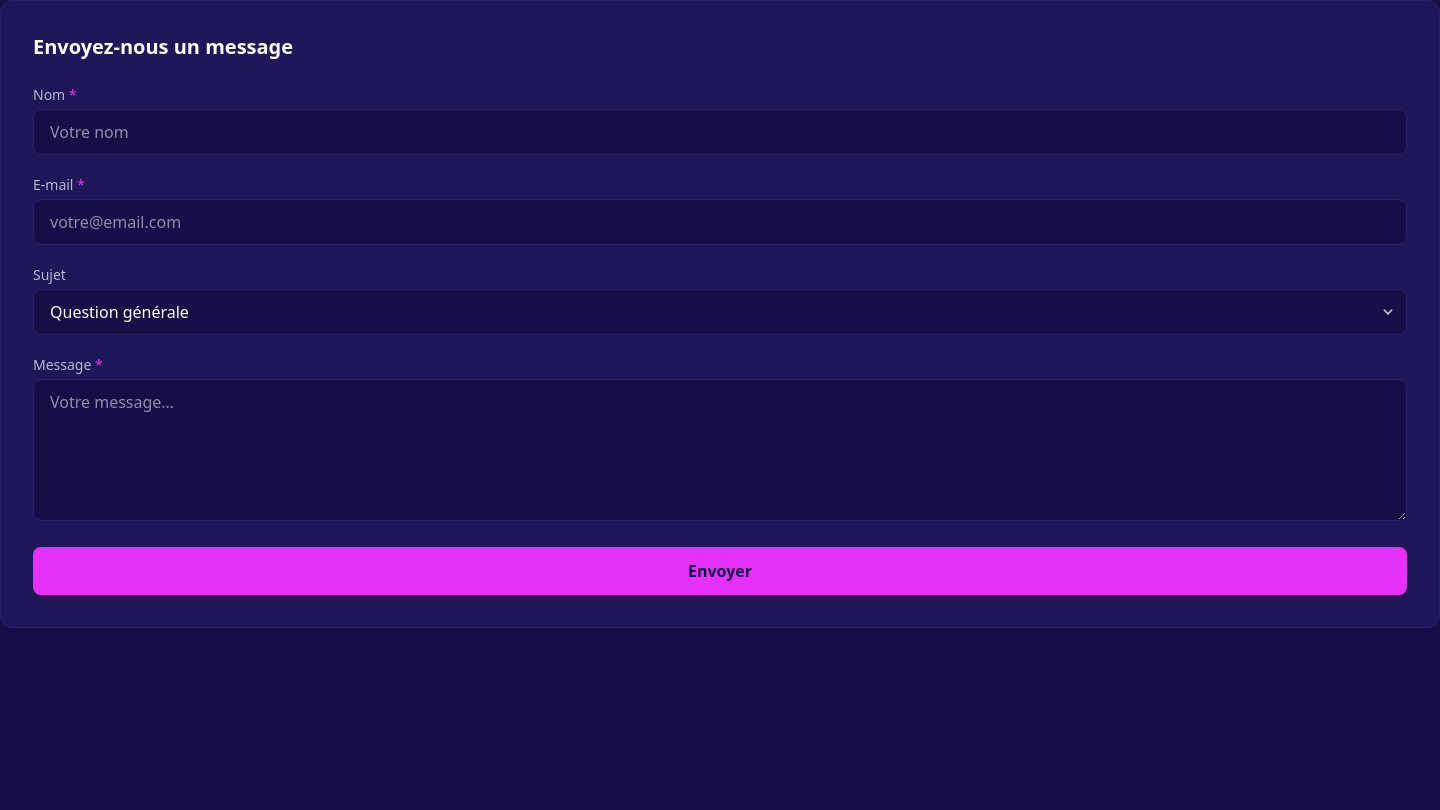
it: ContactForm › affiche une erreur si le nom est vide
The image size is (1440, 810).
In the field labelled "E-mail *": (720, 222) [33,199,1407,245], type "test@test.com"
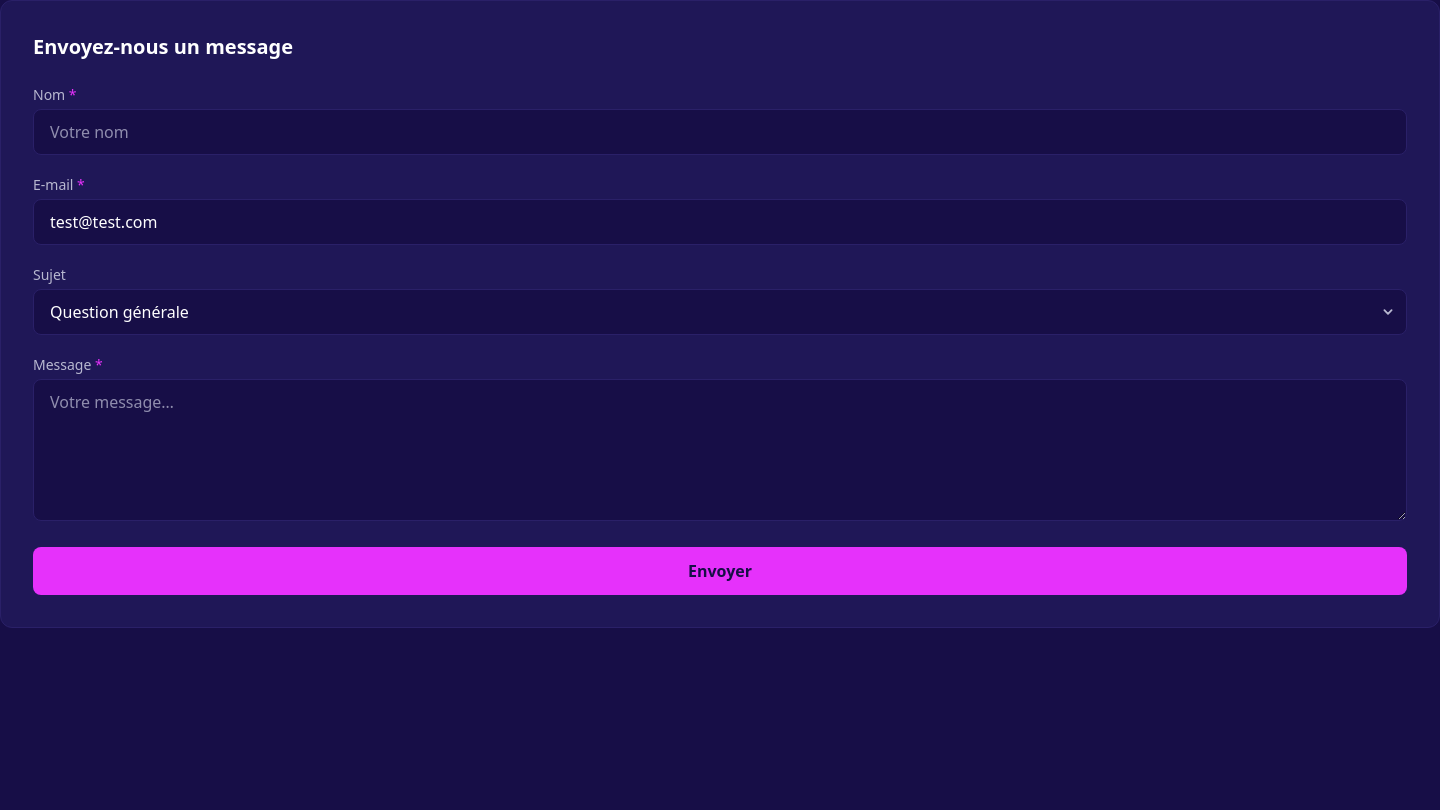
In the text box labelled "Message *": (720, 450) [33,379,1407,521], type "Un message"
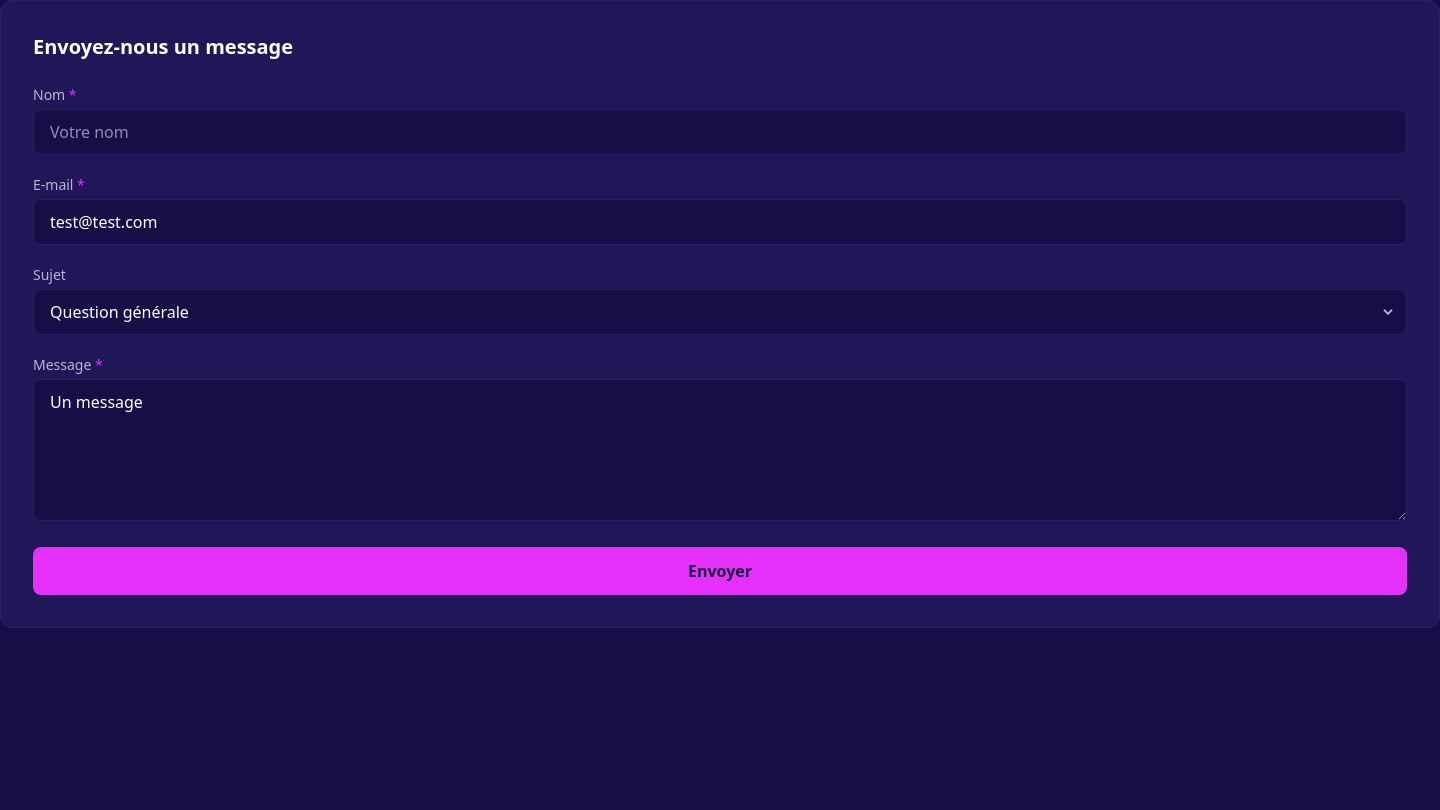
Submit the form
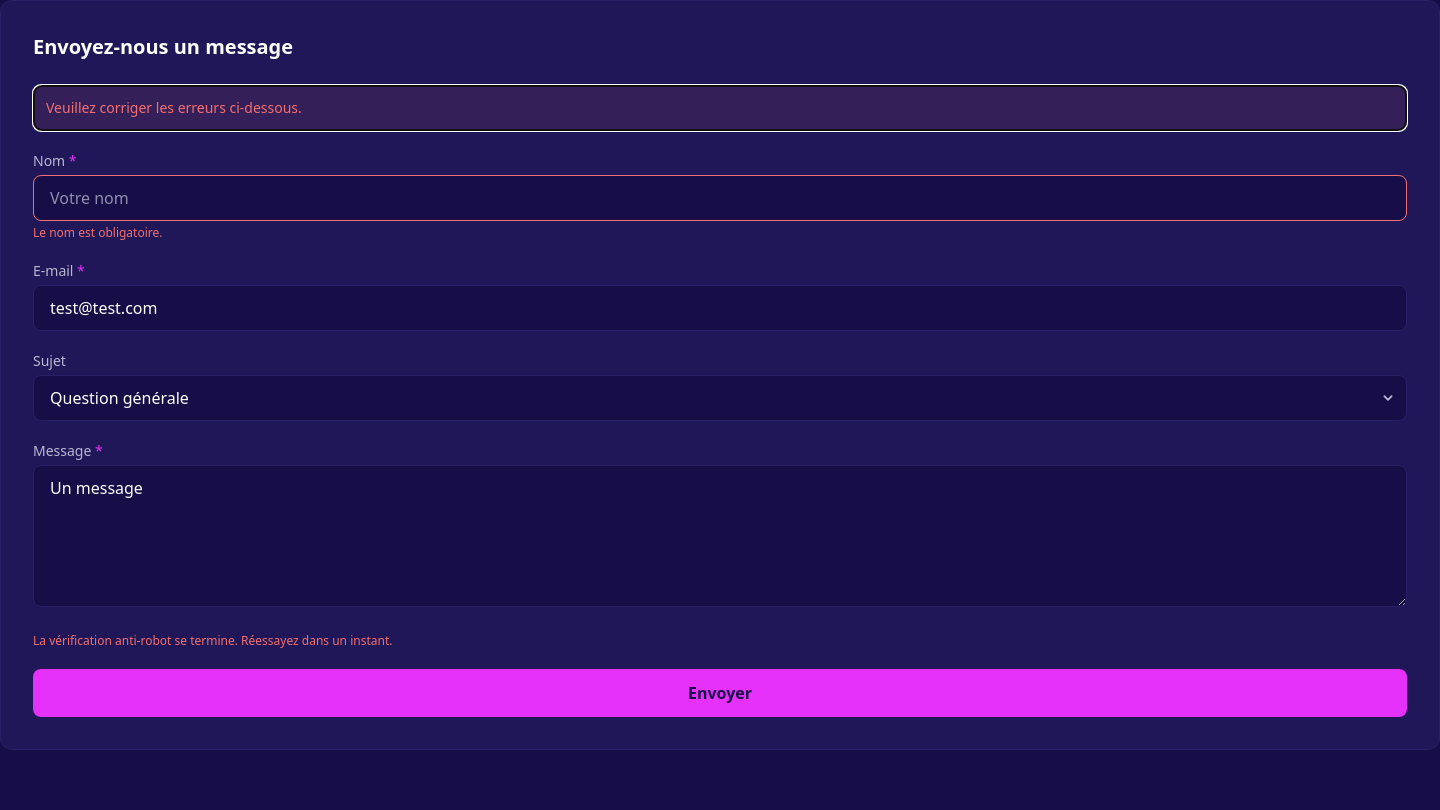
Expected: the text "Le nom est obligatoire." is shown, [33,224,162,241]
